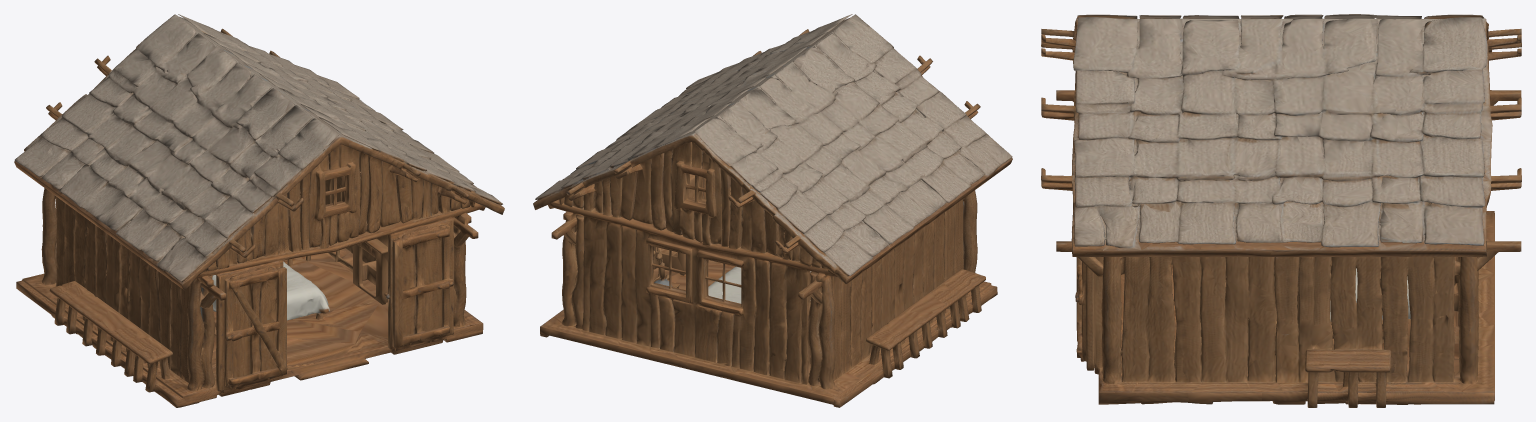
The model's file is Meshy_AI_i_need_a_low_poly_cou_0822004032_texture.fbx.
3 renders of one model, left to right at view 1: azimuth 30°, elevation 25°; view 2: azimuth 150°, elevation 25°; view 3: azimuth 270°, elevation 25°, orthographic. The views are drawn at different scales.
Visible parts, largest first — view 1: mesh_node; view 2: mesh_node; view 3: mesh_node.
Part boxes in pixels (left/top/right/bottom): mesh_node: left=14, top=14, right=504, bottom=407; mesh_node: left=533, top=14, right=1012, bottom=407; mesh_node: left=1041, top=14, right=1521, bottom=407.
Size of the model in its own units: 641 by 457 by 665.
Materials: 1 (1 with a texture image).
